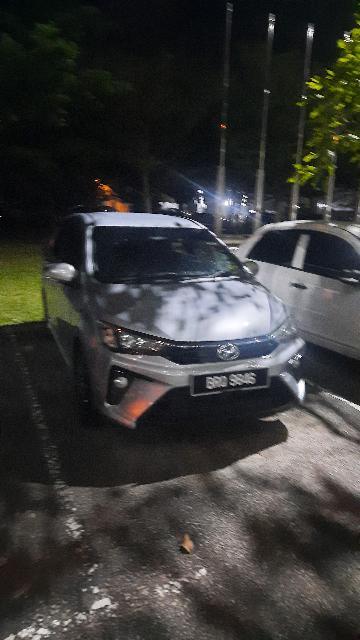License_Plate: (191, 366, 274, 396)
car: (40, 209, 309, 432), (236, 216, 360, 364)
